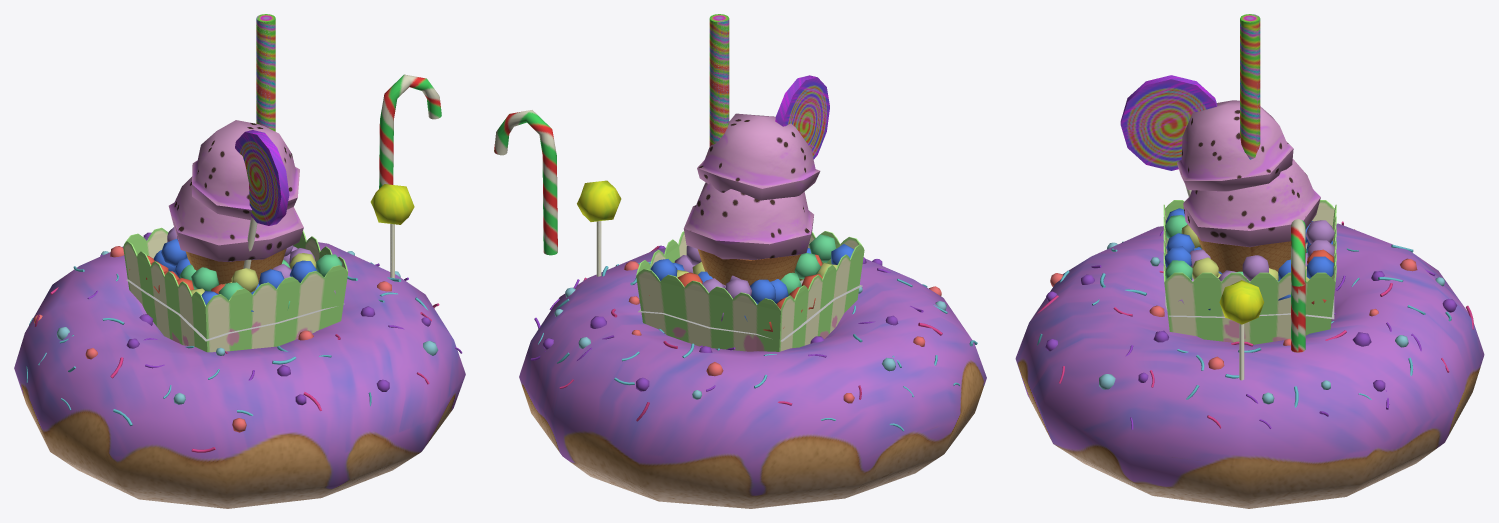
Rendered from low-poly-sweets-pack-f29161.glb.
3 views of the same model, side by side, from view 1: azimuth 30°, elevation 25°; view 2: azimuth 150°, elevation 25°; view 3: azimuth 270°, elevation 25° (orthographic). The views are drawn at different scales.
Parts seen in each view (by area): view 1: PropMesh; view 2: PropMesh; view 3: PropMesh.
Boxes of the visible parts, <box> form: PropMesh: <box>14,14,465,508</box>; PropMesh: <box>494,14,986,508</box>; PropMesh: <box>1015,14,1484,508</box>.
Size of the model in its own units: 2.1 by 2.2 by 1.92.
5 materials, 5 textured.
